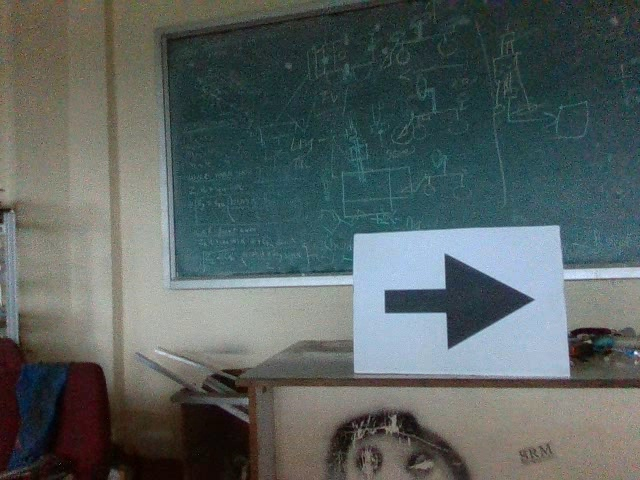Right: (376, 248, 539, 356)
